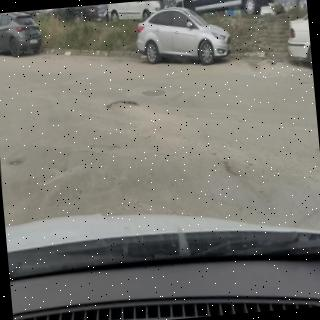pothole: (106, 100, 141, 112)
